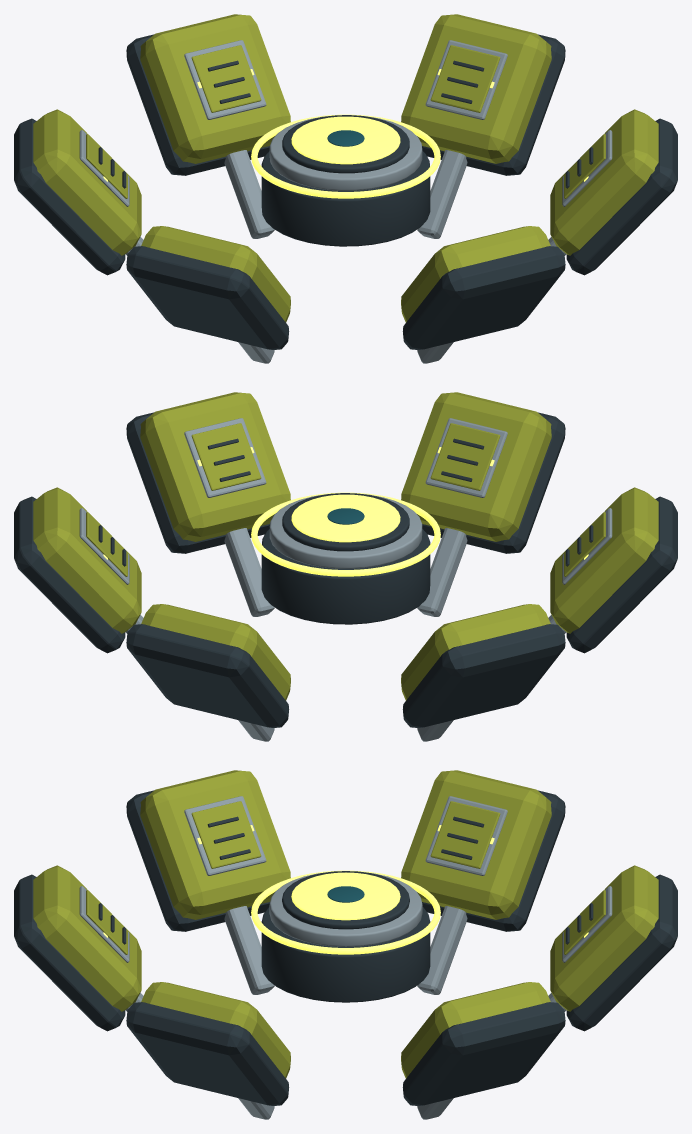
File: boss-3-p2.glb
The picture shows the model from 3 angles, top to bottom: view 1: azimuth 30°, elevation 25°; view 2: azimuth 150°, elevation 25°; view 3: azimuth 270°, elevation 25°; orthographic projection.
Parts seen in each view (by area): view 1: SM_Shield_Right, SM_Hull; view 2: SM_Shield_Right, SM_Hull; view 3: SM_Shield_Right, SM_Hull.
Part boxes in pixels (bbox=[...]): SM_Shield_Right: bbox=[14, 14, 677, 363]; SM_Hull: bbox=[251, 114, 440, 246]; SM_Shield_Right: bbox=[14, 392, 677, 741]; SM_Hull: bbox=[251, 492, 440, 624]; SM_Shield_Right: bbox=[14, 770, 677, 1119]; SM_Hull: bbox=[251, 870, 440, 1002].
Bounding box in the file's own units: 7.88 × 2.33 × 8.26.
